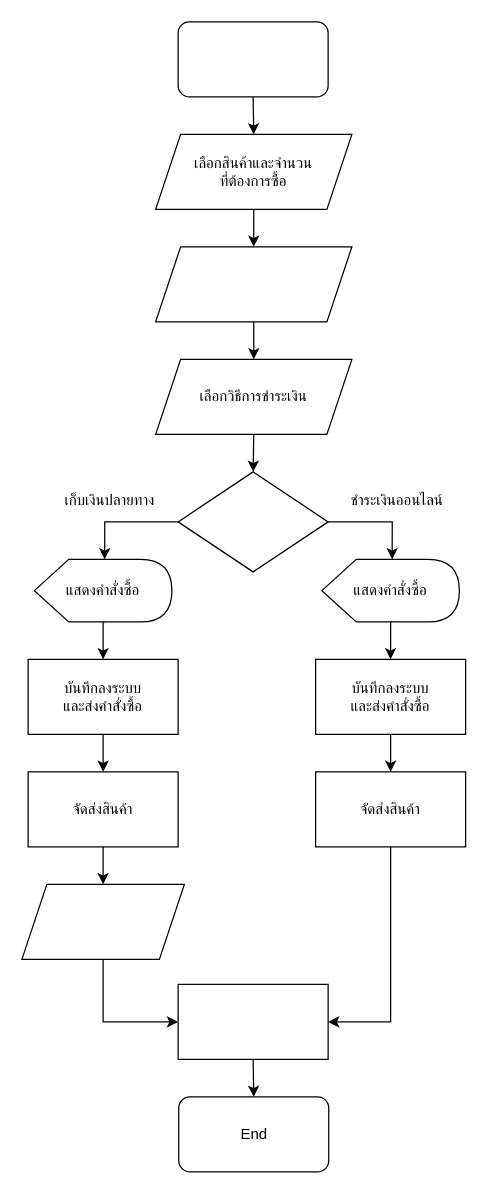
Some shapes in this 488 by 1194 pixel diagram are drawn without their labels. The centre of each missing label's shape, as x and y in pixels:
Start: the point at 252,59
ชำระเงิน: the point at 102,921
ที่อยู่ที่จัดส่ง: the point at 253,284
รับสินค้า: the point at 252,1021
วิธีการชำระเงิน: the point at 252,521
